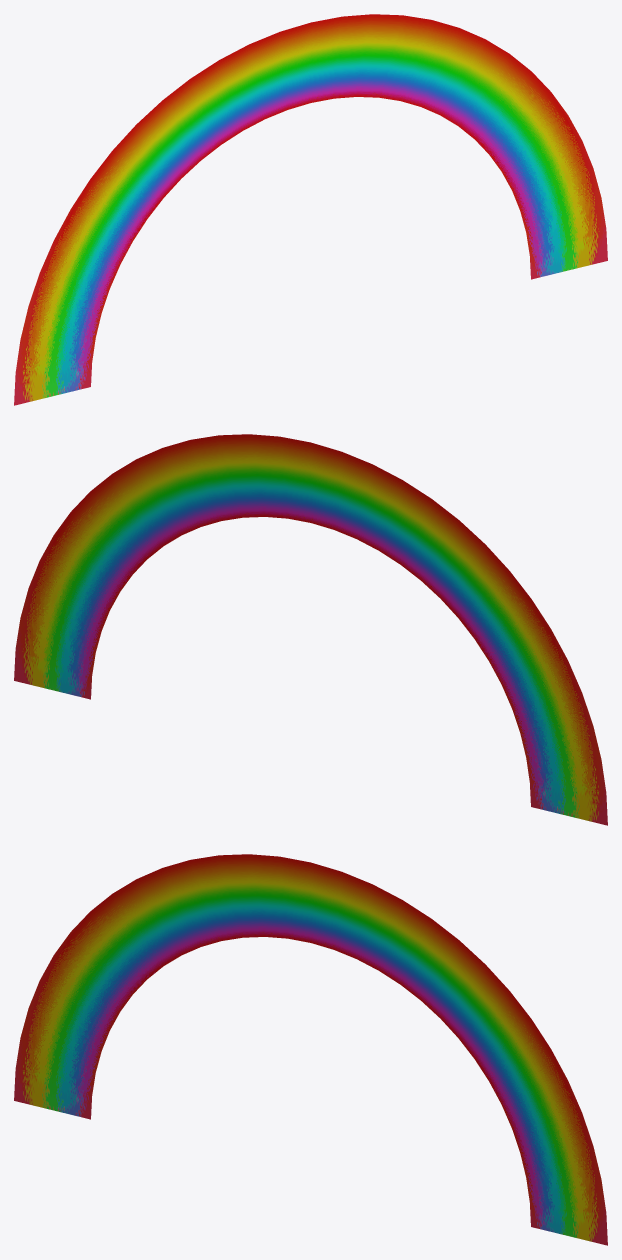
The model's file is rainbow_01.FBX.
3 renders of one model, top to bottom at view 1: azimuth 30°, elevation 25°; view 2: azimuth 150°, elevation 25°; view 3: azimuth 330°, elevation 25°, orthographic.
Visible parts, largest first — view 1: rainbow_01; view 2: rainbow_01; view 3: rainbow_01.
Boxes of the visible parts, box(x1,y1,x2,y2) form: rainbow_01: box(14, 14, 607, 405); rainbow_01: box(14, 434, 607, 825); rainbow_01: box(14, 854, 607, 1245).
Size of the model in its own units: 255 by 128 by 2.01e-05.
